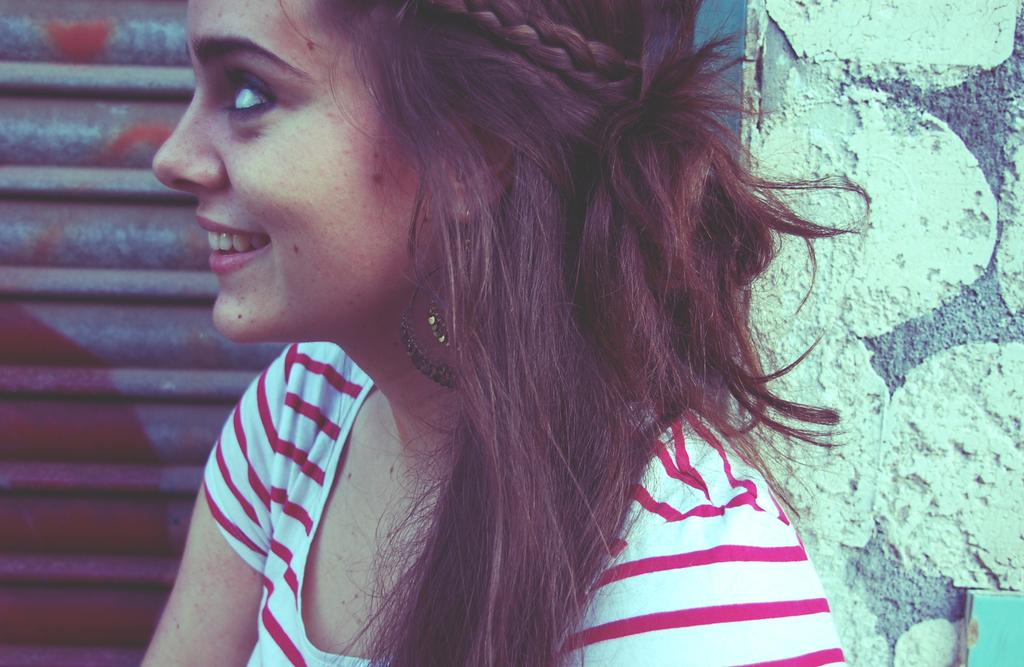Sem Máscara: (149, 0, 449, 337)
